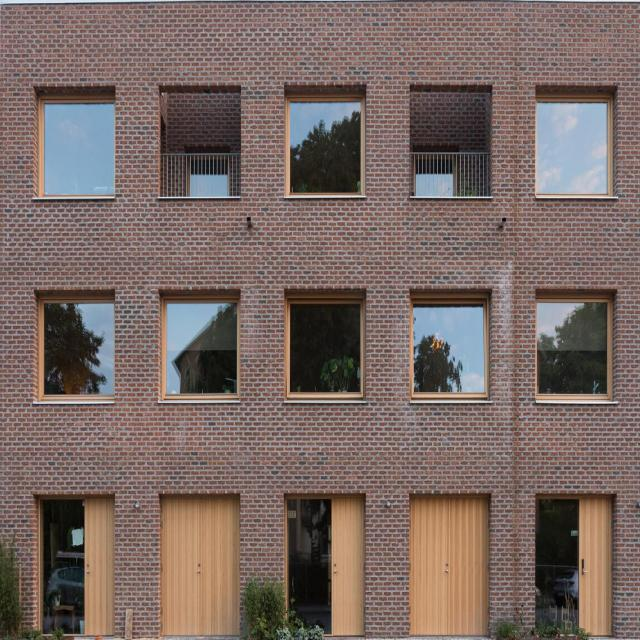Railing: (161, 153, 242, 200), (411, 154, 492, 197)
door: (160, 493, 238, 640), (413, 491, 491, 634), (582, 492, 616, 636), (334, 491, 367, 634), (87, 496, 115, 636)
plant: (1, 529, 27, 636), (243, 577, 287, 636)
wall: (2, 1, 640, 634)
windows: (284, 93, 363, 199), (535, 92, 611, 202), (534, 293, 612, 400), (39, 296, 115, 397), (413, 297, 488, 398), (288, 298, 366, 395), (165, 299, 239, 396), (41, 101, 113, 194), (537, 495, 582, 634), (43, 496, 88, 634), (290, 498, 332, 628)
